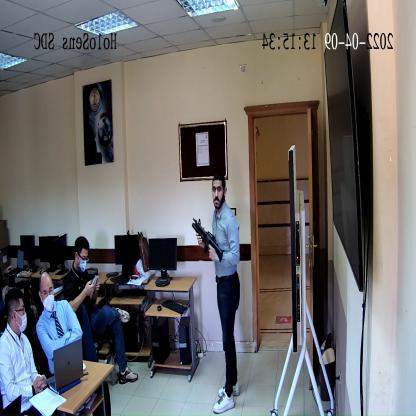handgun: (193, 217, 223, 263)
